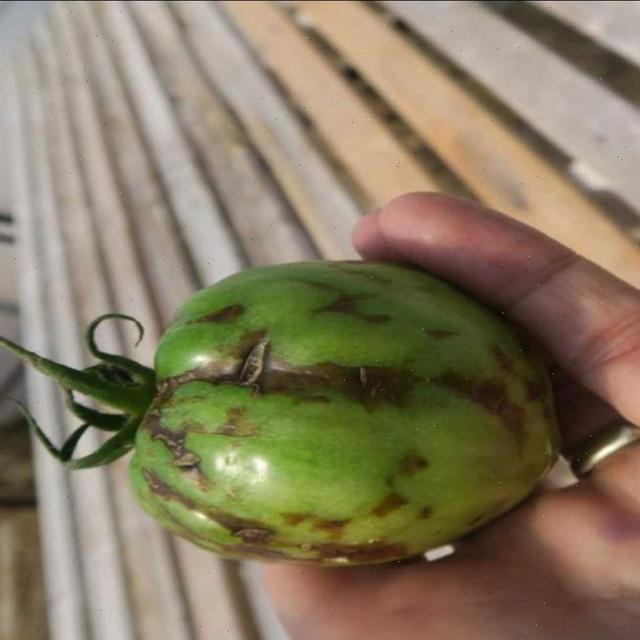Spotted wilt Virus Fruit: (181, 116, 527, 331)
